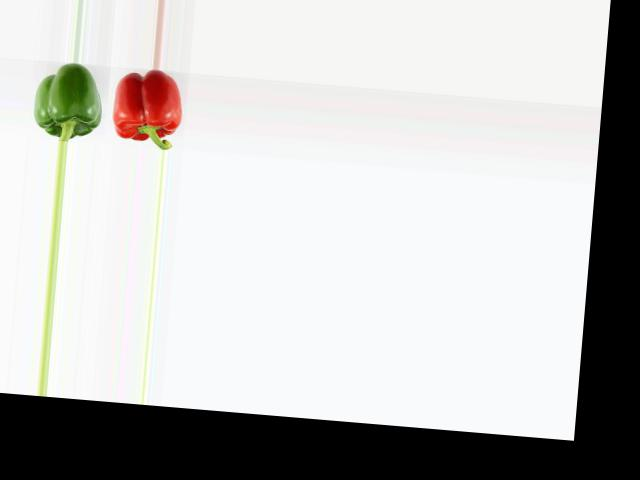bell_pepper: (29, 63, 108, 143)
